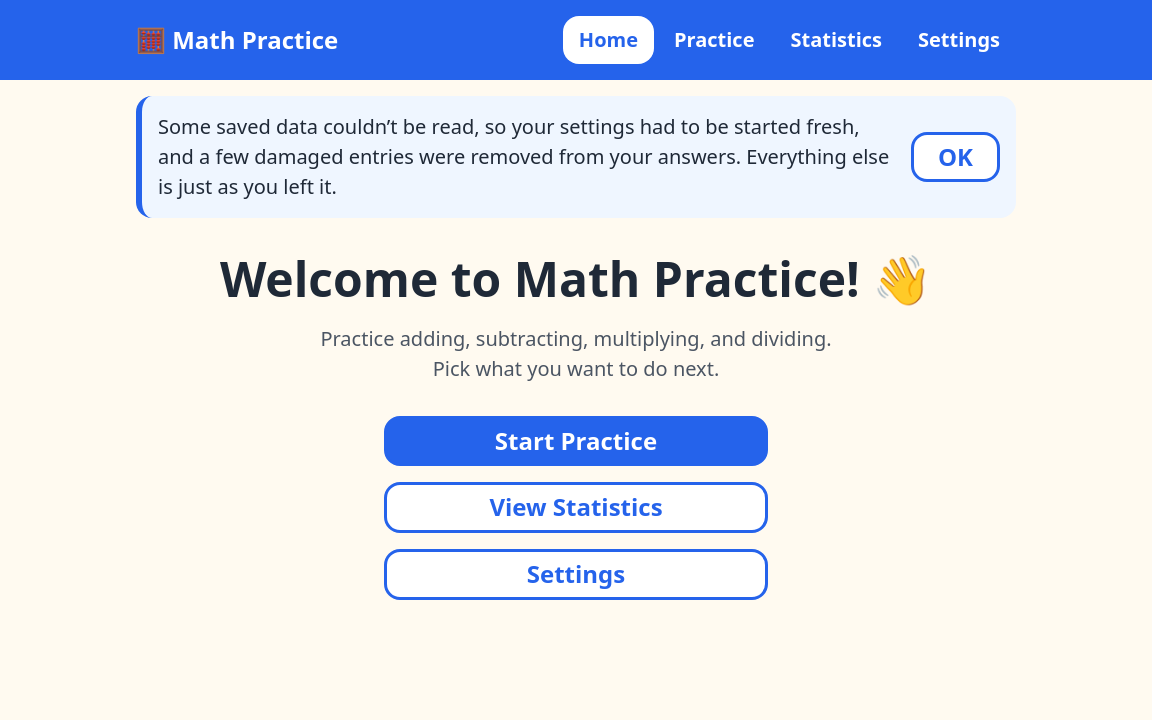
Test: saved-data notices › explains repairs made at startup in plain words, and can be dismissed
This screenshot has width=1152, height=720.
Check: the text "Some saved data couldn’t be read" shows "Some saved data couldn’t be read, so your settings had to be started fresh, and a few damaged entries were removed from your answers. Everything else is just as", box [158,113,889,200]
Click the button "OK": (956, 157) [911,132,1000,182]
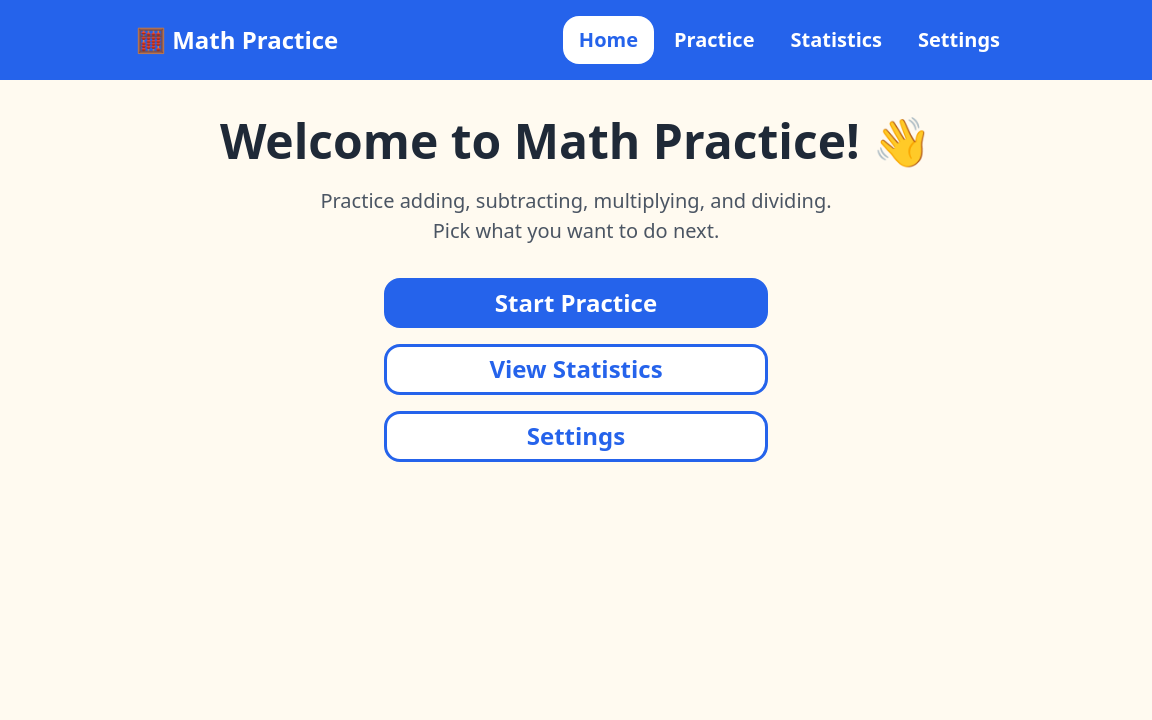
Check: the text "Some saved data" is gone
